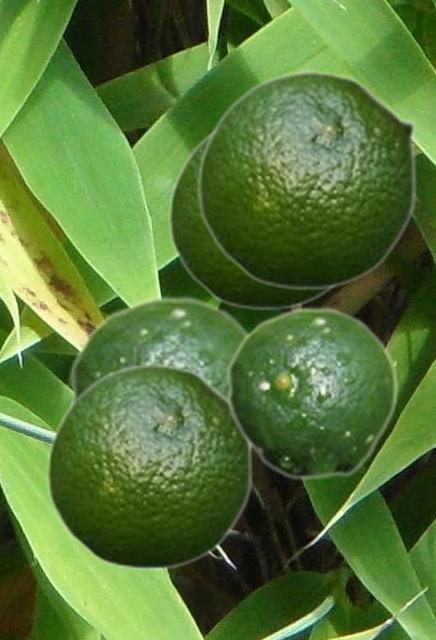calamansi: (197, 70, 417, 290), (46, 363, 253, 570), (168, 127, 338, 310), (226, 306, 398, 480), (69, 295, 254, 454)
